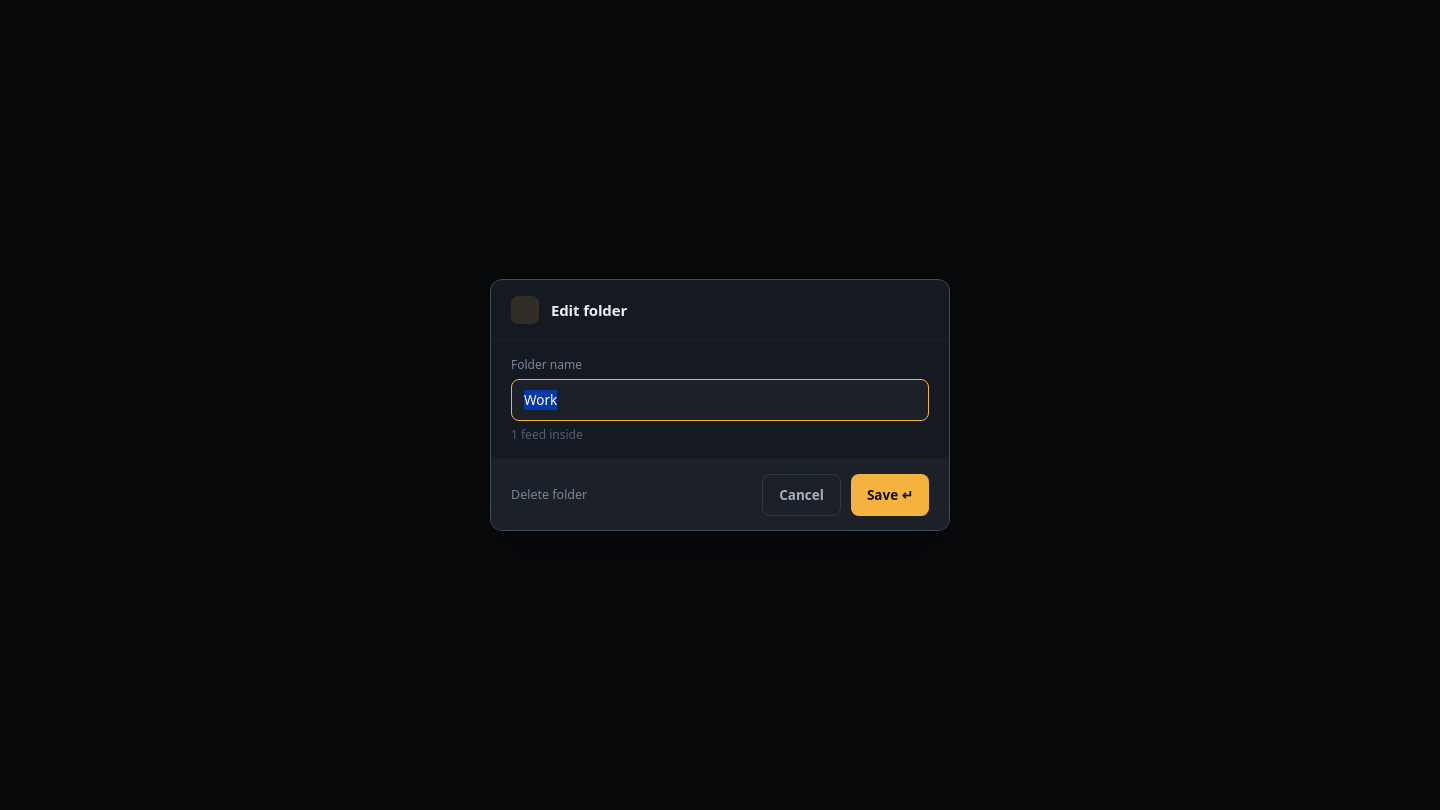
Test: FolderEditModal › makes the rename inert while a delete is pending, and restores it on Keep
Click the button with test id "folder-edit-delete": coordinates (549, 495) left=511, top=474, right=587, bottom=516
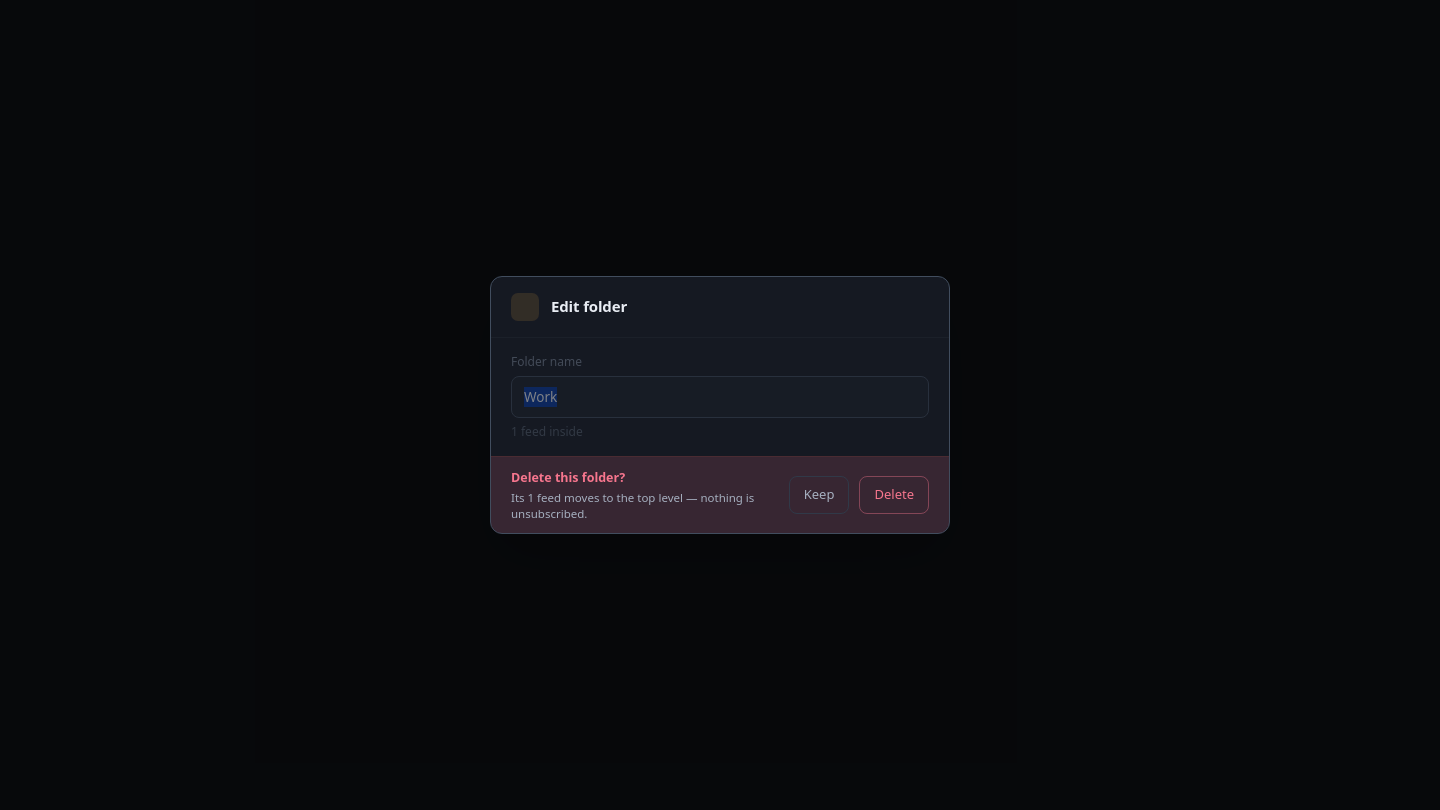
Press Enter in the field labelled "Folder name", box left=511, top=376, right=929, bottom=418
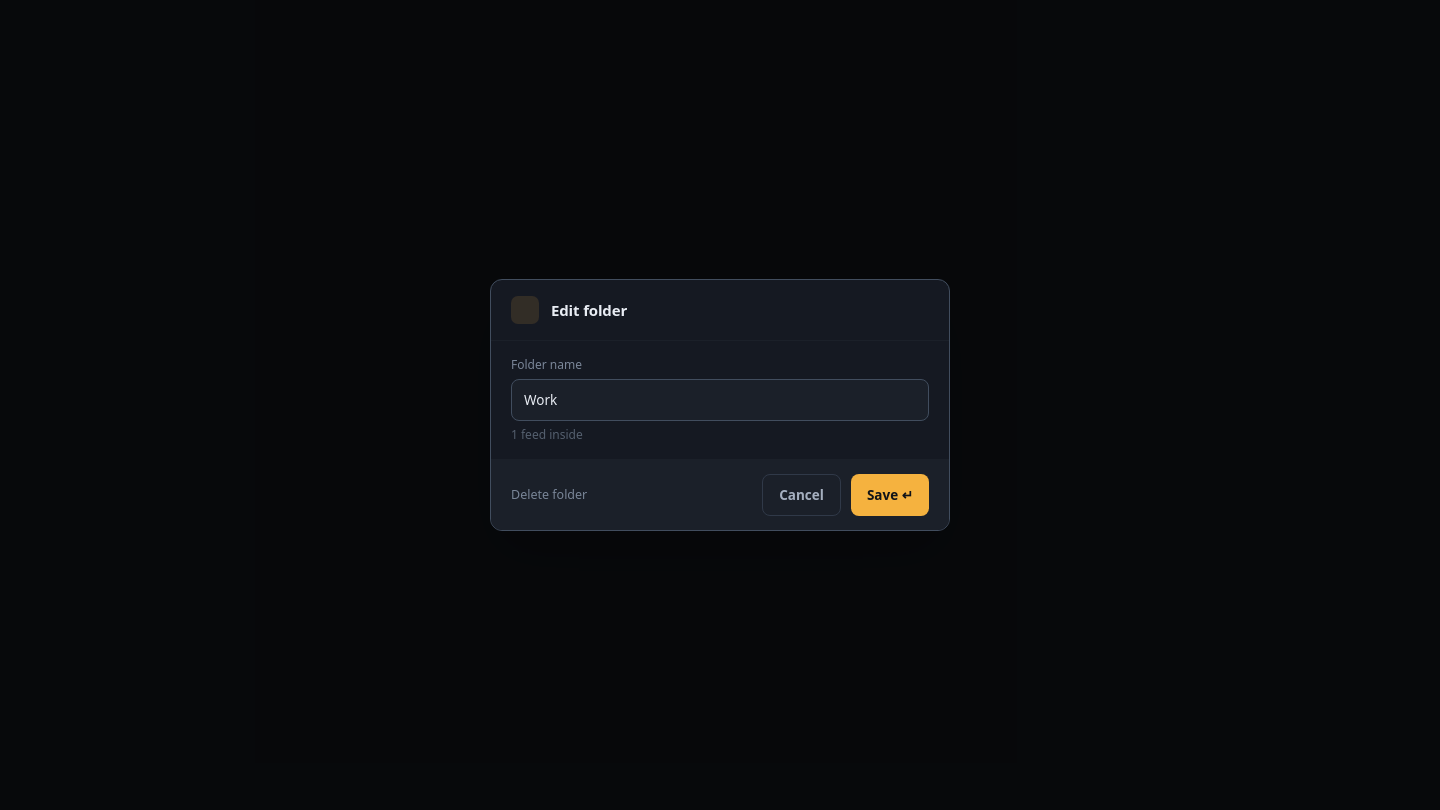
Expected: the dialog with test id "folder-delete-confirm" is gone
Expected: the button with test id "folder-edit-save" is shown, left=851, top=474, right=929, bottom=516
